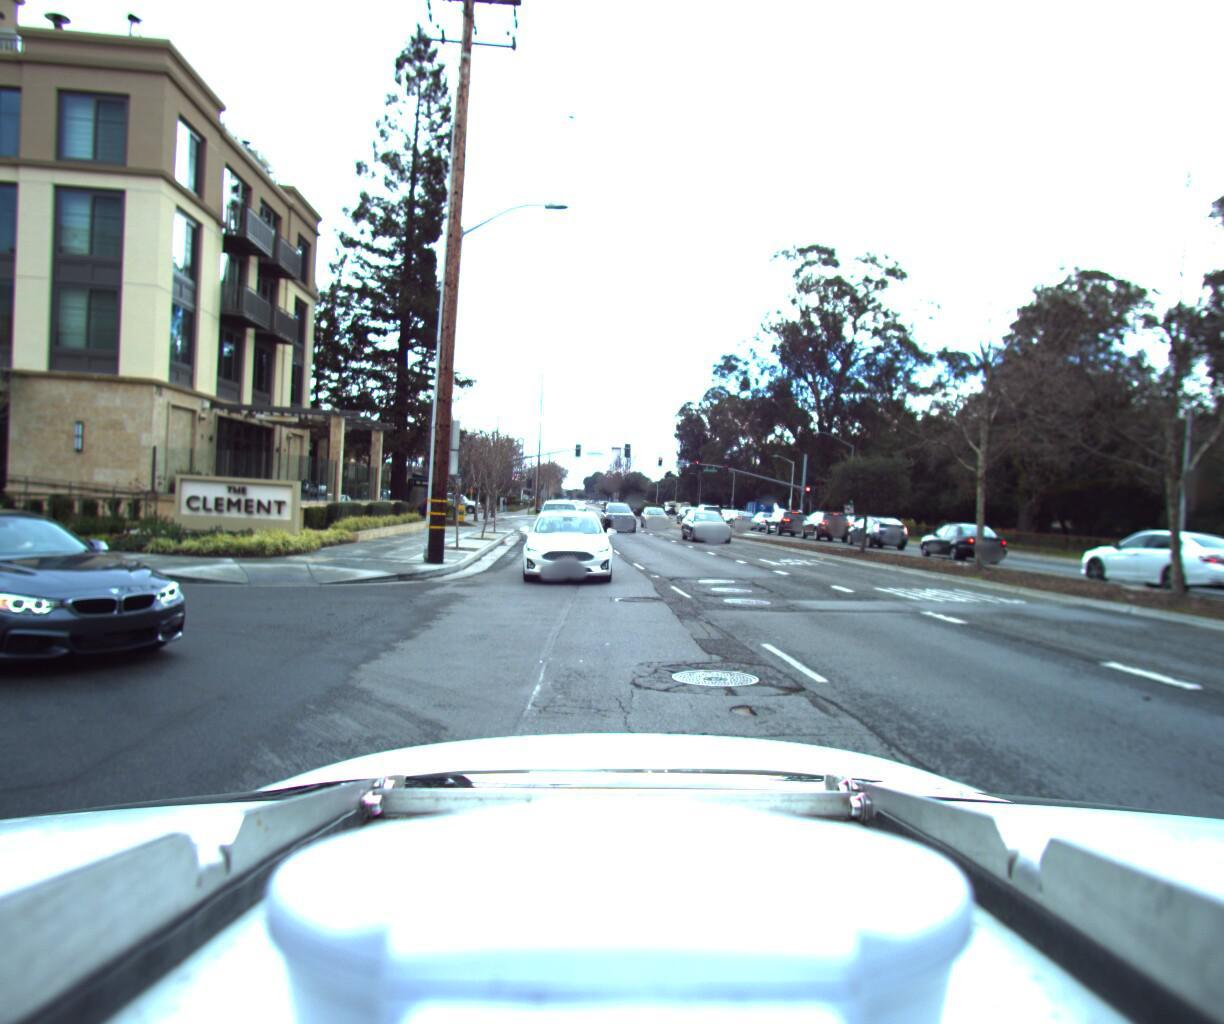car: (0, 487, 227, 718), (1057, 511, 1224, 598), (511, 500, 614, 585), (914, 510, 1011, 560), (842, 507, 914, 543), (684, 499, 745, 539), (798, 499, 857, 536), (762, 499, 811, 529), (602, 493, 639, 526), (640, 496, 677, 522), (745, 503, 786, 525), (725, 501, 758, 523), (674, 498, 703, 517)
truck: (739, 490, 797, 523)
